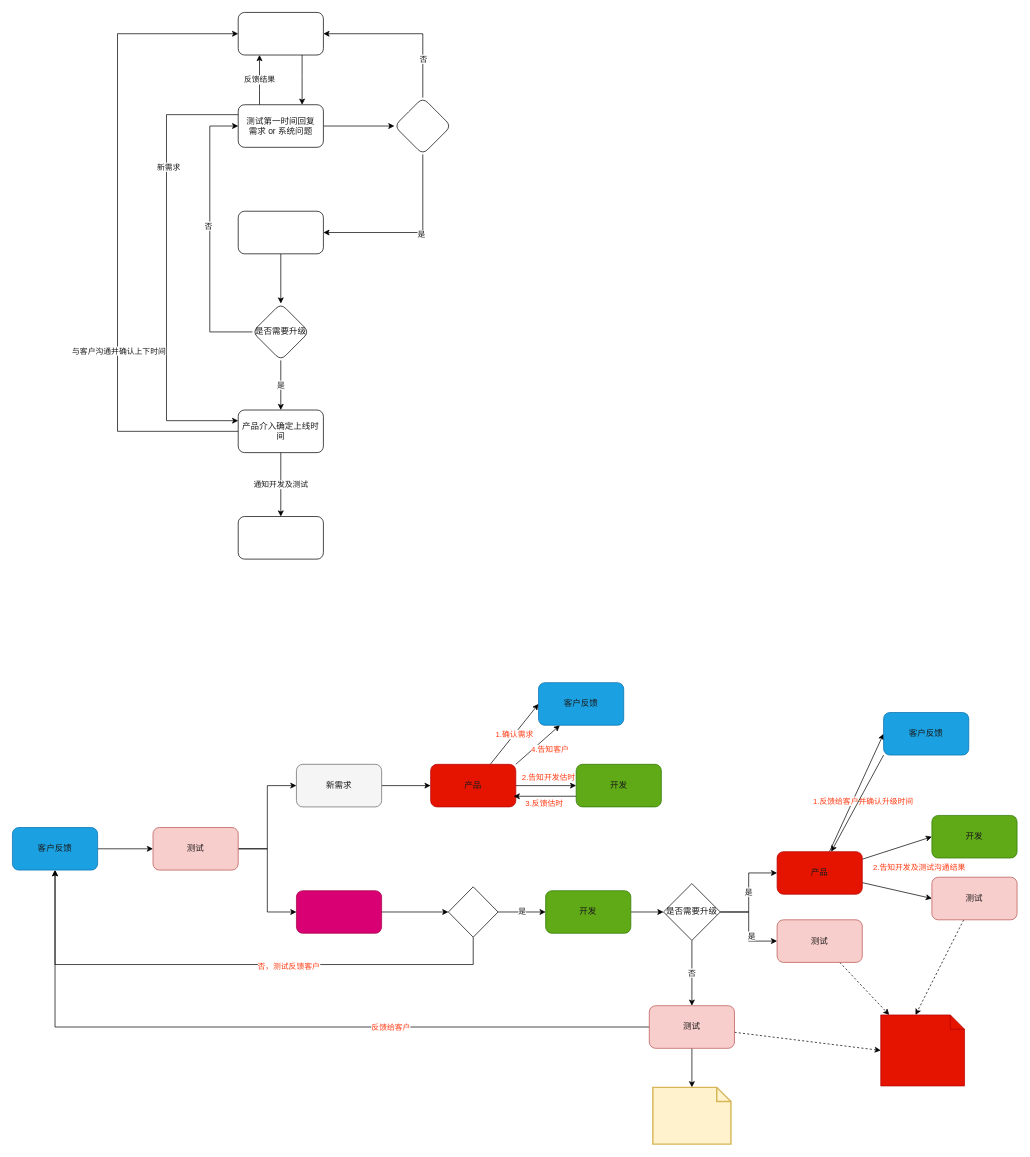
This 1030x1157 diagram has some shape labels left out. Here are the shapes that lost their labels. From the top down, the centre of each, then its label:
the point at 280,33: 客户群反馈系统问题
the point at 422,125: 是否bug
the point at 280,232: 开发排查给出原因
the point at 280,537: 开发、测试
the point at 339,911: 系统问题，测试复现
the point at 473,911: 是否为bug
the point at 922,1050: 形成问题整理记录并告知产品
the point at 691,1115: 开发告知测试原因及解决方案
